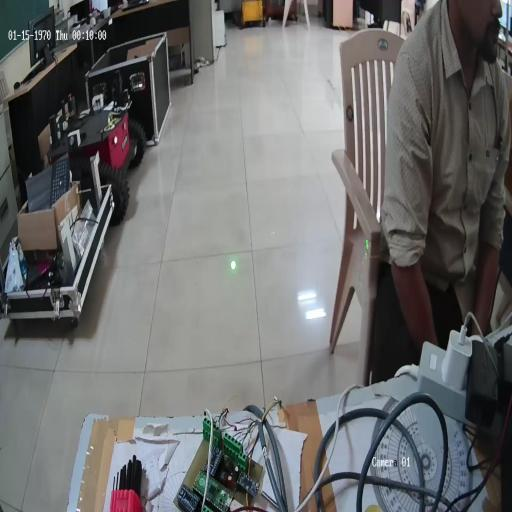laser: (229, 257, 238, 273)
